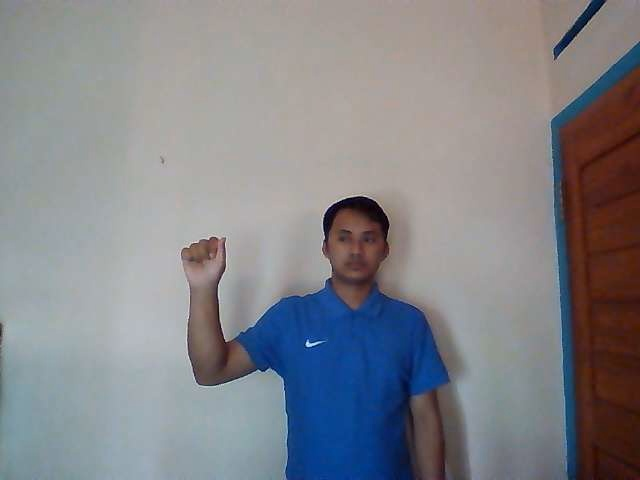A: (180, 235, 228, 287)
